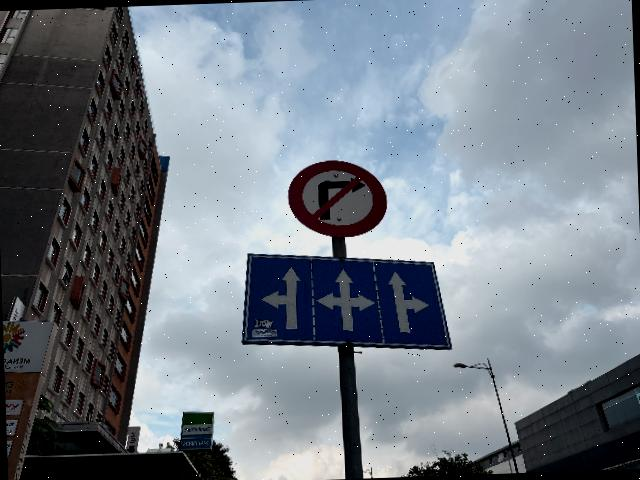cam-re-trai: (286, 158, 390, 241)
